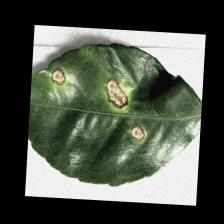canker: (48, 62, 159, 144)
